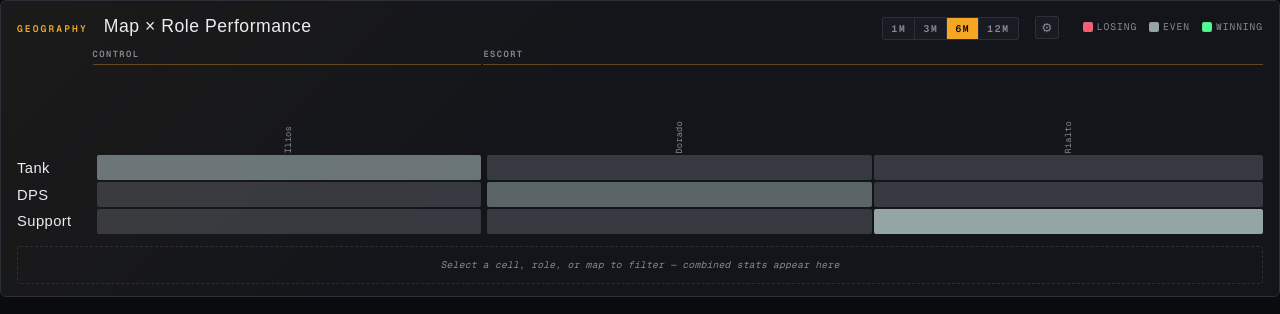
Scenario: MatchMapRoleBand › clicking a role label selects the whole row
Step 1. Click the button with aria-label "Select all maps for Support" → point(54, 221), box [17,209,91,234]
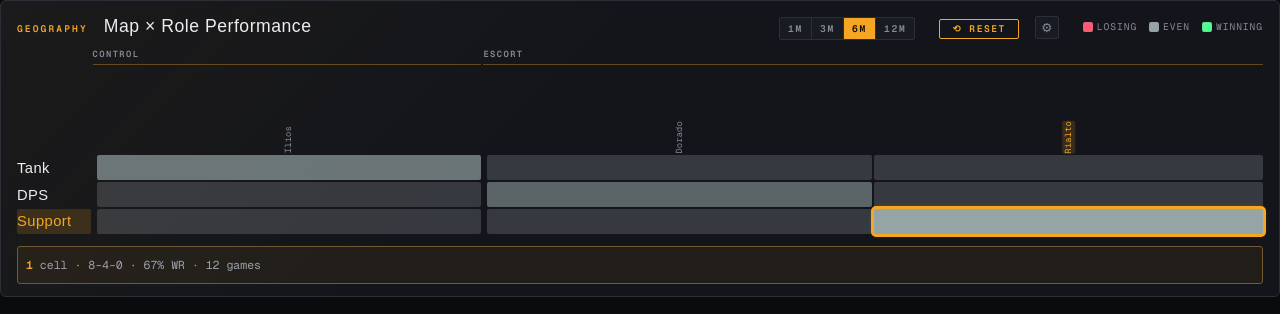
Expected: the text "combined stats appear here" is gone
